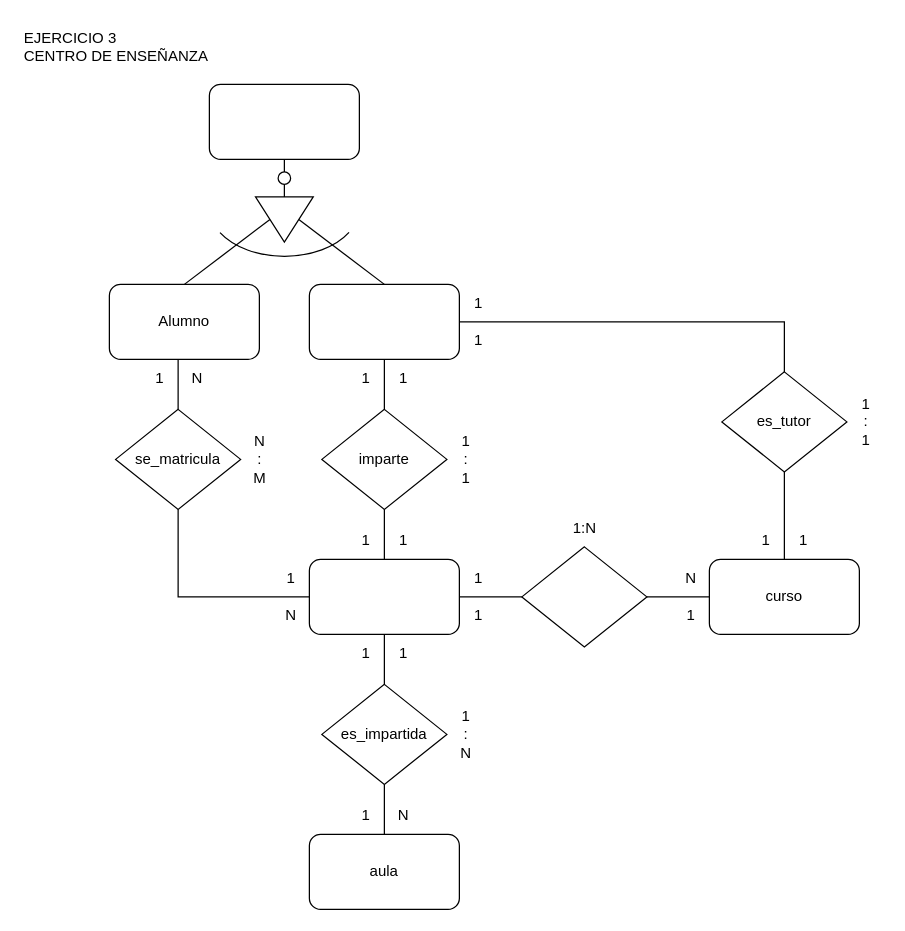
The diagram is 905 pixels wide and 931 high, and some of its shapes have lost their labels. The shapes that lost their labels are listed below. From the top down, each one's centre as x and y in pixels, then its label:
the point at 283,121: Persona
the point at 383,321: Profesor
the point at 383,596: asignatura
the point at 584,596: es_parte
